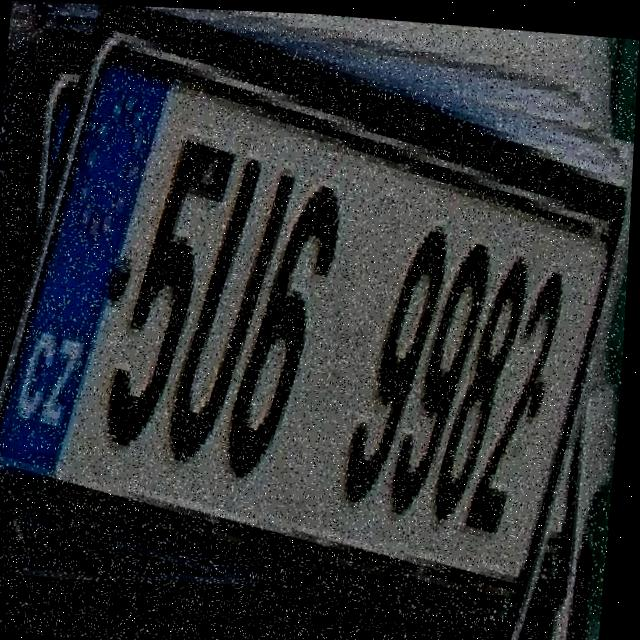LicensePlate: (0, 12, 640, 632)
